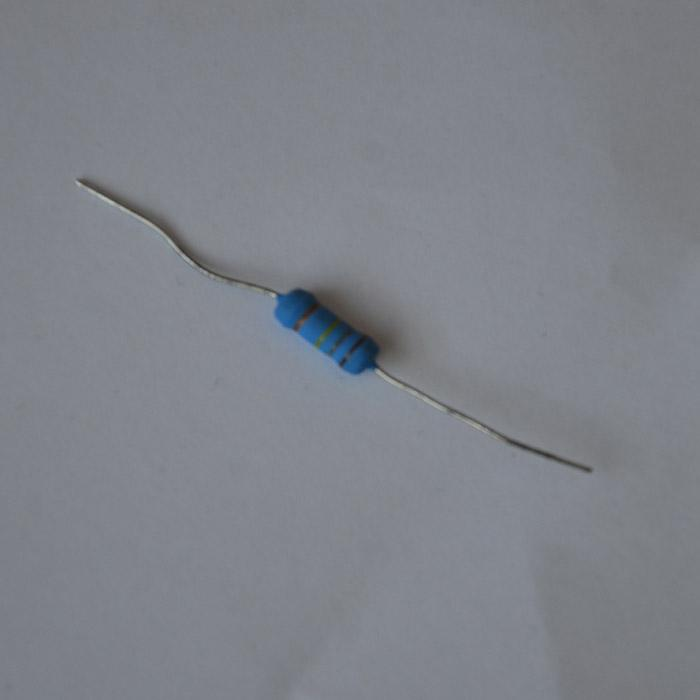resistor: (274, 286, 380, 374)
